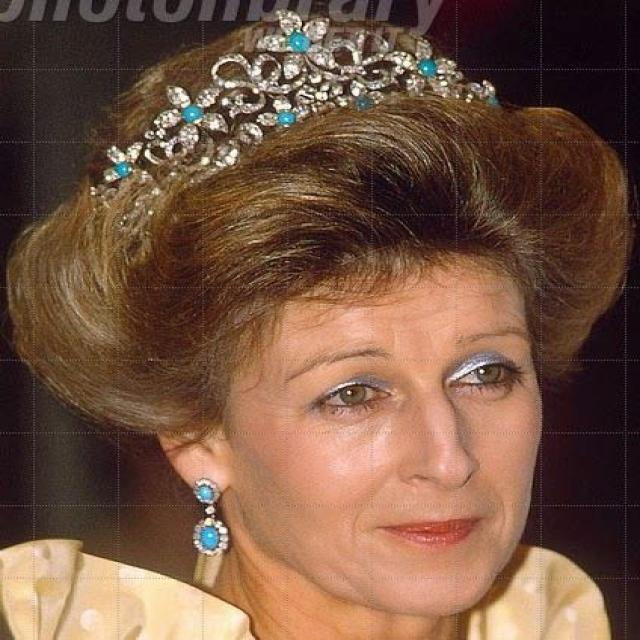Earring: (188, 468, 230, 582)
